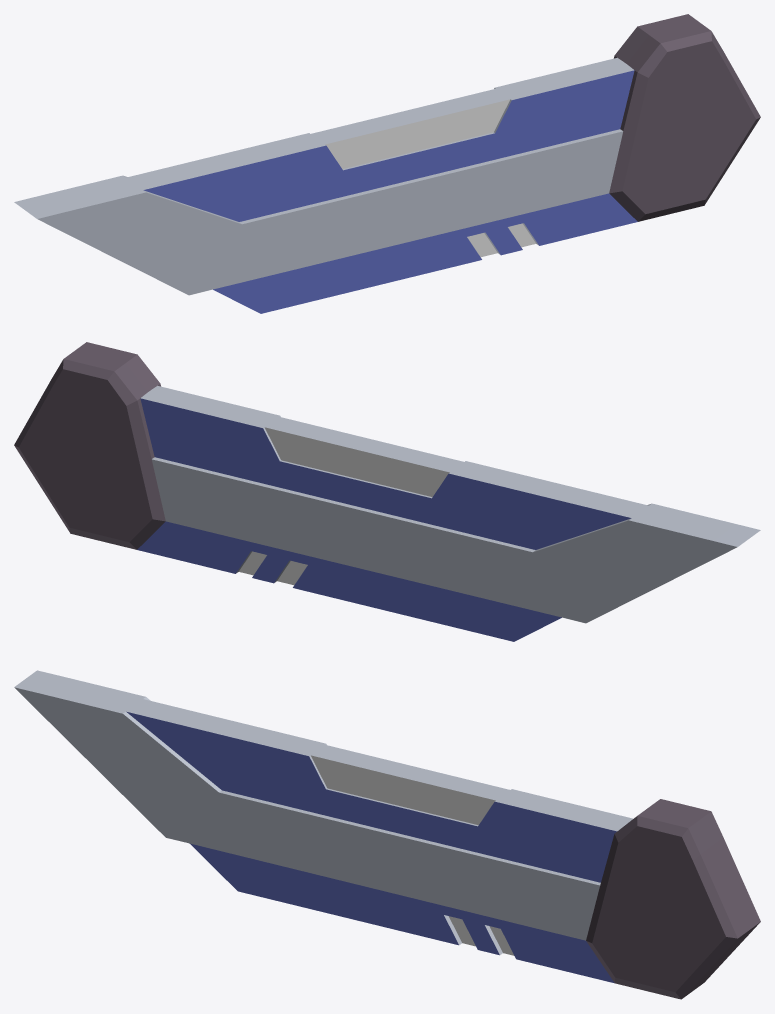
3 renders of one model, top to bottom at view 1: azimuth 30°, elevation 25°; view 2: azimuth 150°, elevation 25°; view 3: azimuth 330°, elevation 25°, orthographic.
Visible parts, largest first — view 1: 立方體; view 2: 立方體; view 3: 立方體.
Boxes of the visible parts, bbox=[...] form: 立方體: bbox=[14, 14, 760, 313]; 立方體: bbox=[14, 342, 760, 641]; 立方體: bbox=[14, 670, 760, 999].
Bounding box in the file's own units: 340 × 77.71 × 24.57.
